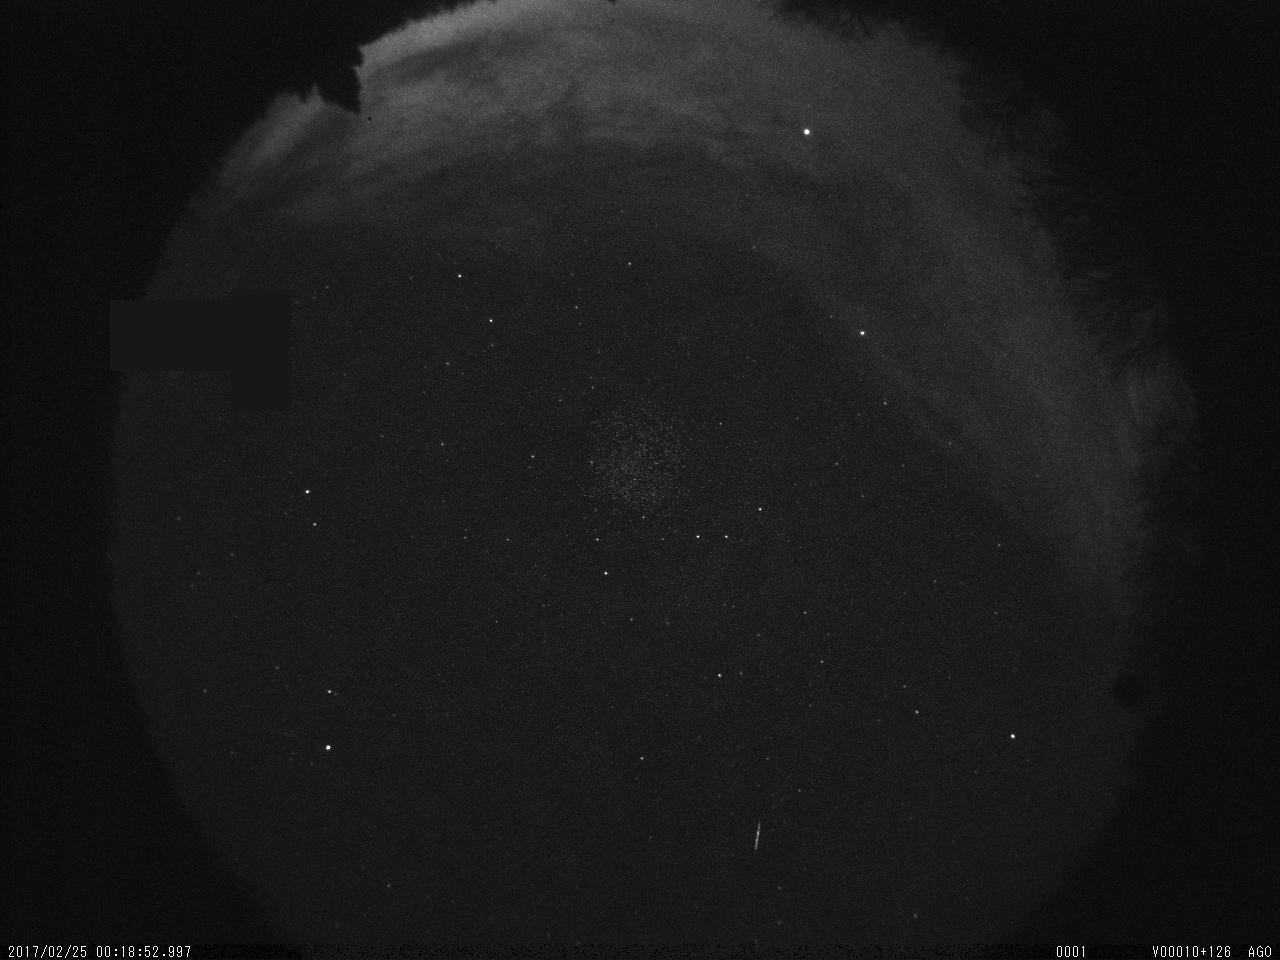meteor: (747, 815, 770, 859)
